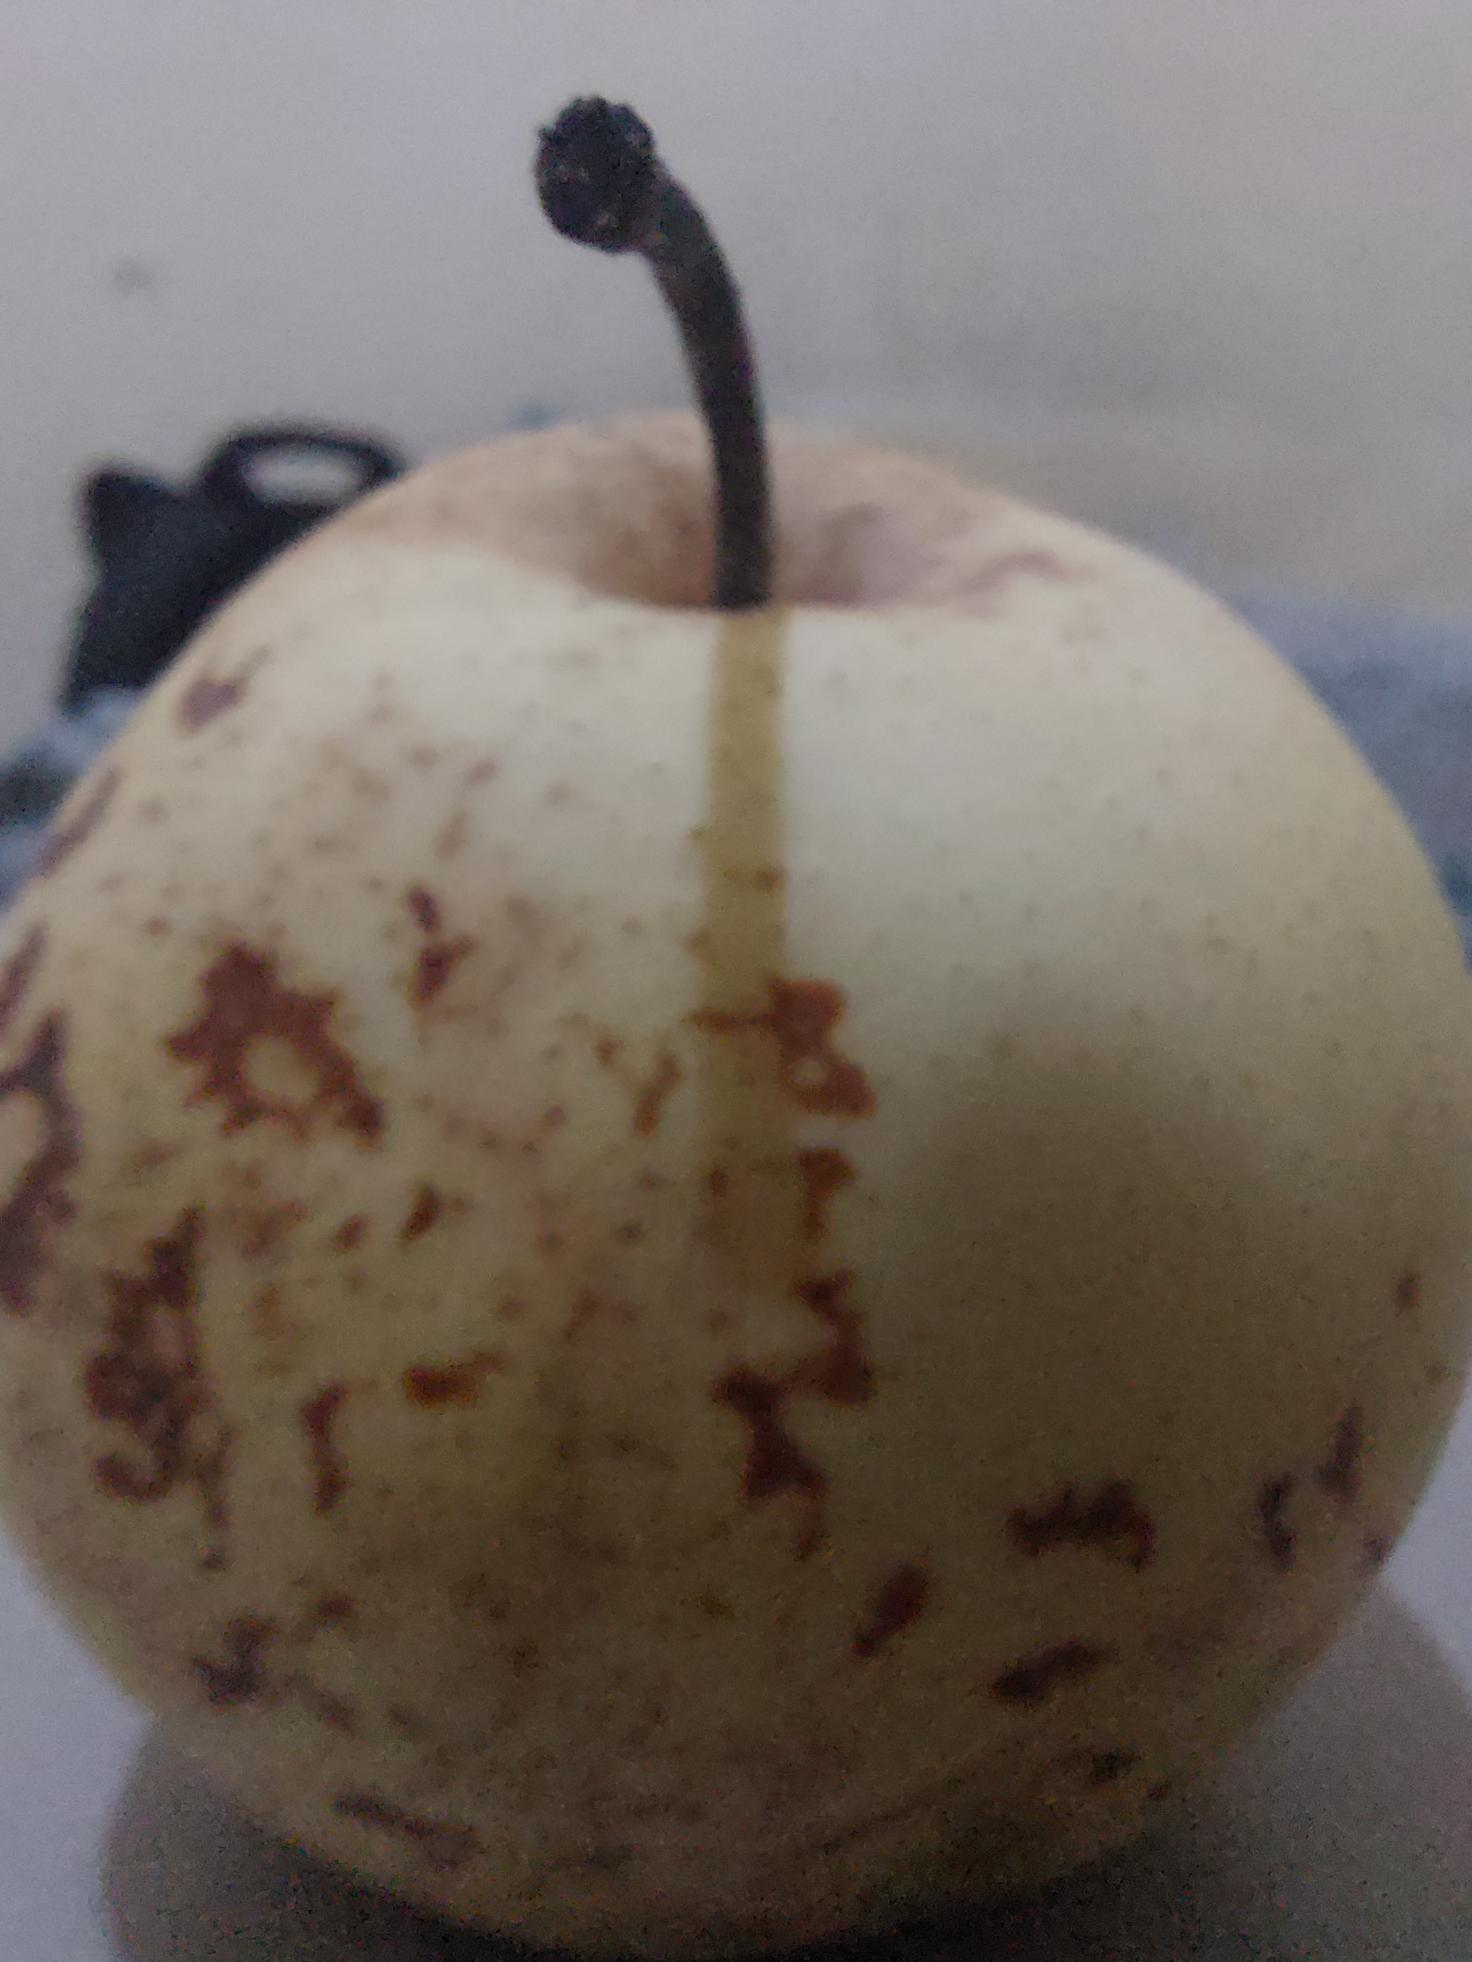Bad Pear: (0, 400, 1472, 1962)
